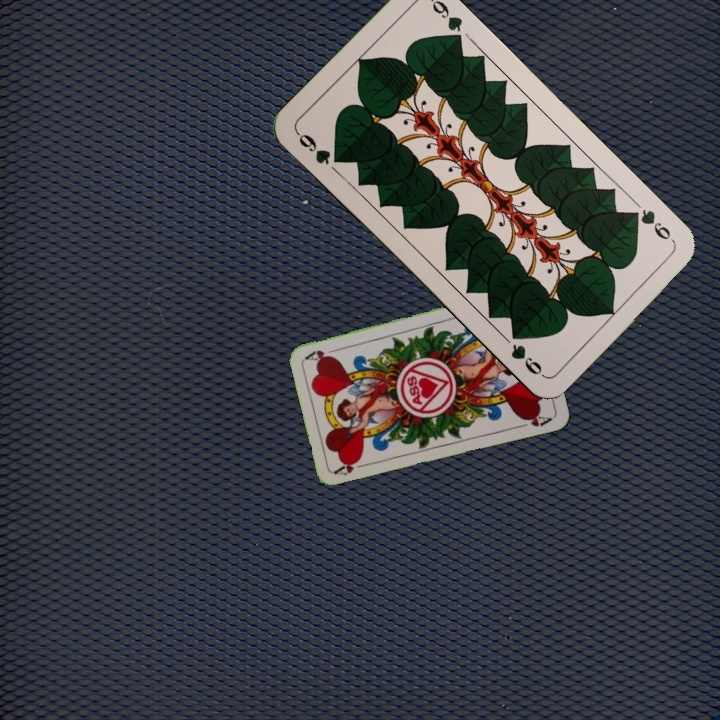G9: (292, 128, 346, 168), (624, 204, 673, 243)
HA: (331, 454, 371, 478)
